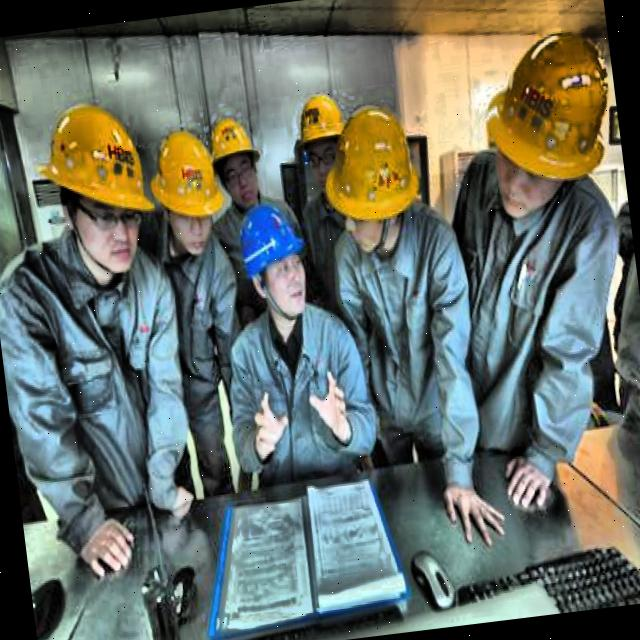helmet: (463, 22, 623, 231), (30, 97, 154, 287), (324, 102, 425, 251), (230, 191, 320, 333), (144, 120, 226, 260), (198, 101, 270, 220), (288, 78, 360, 197)
